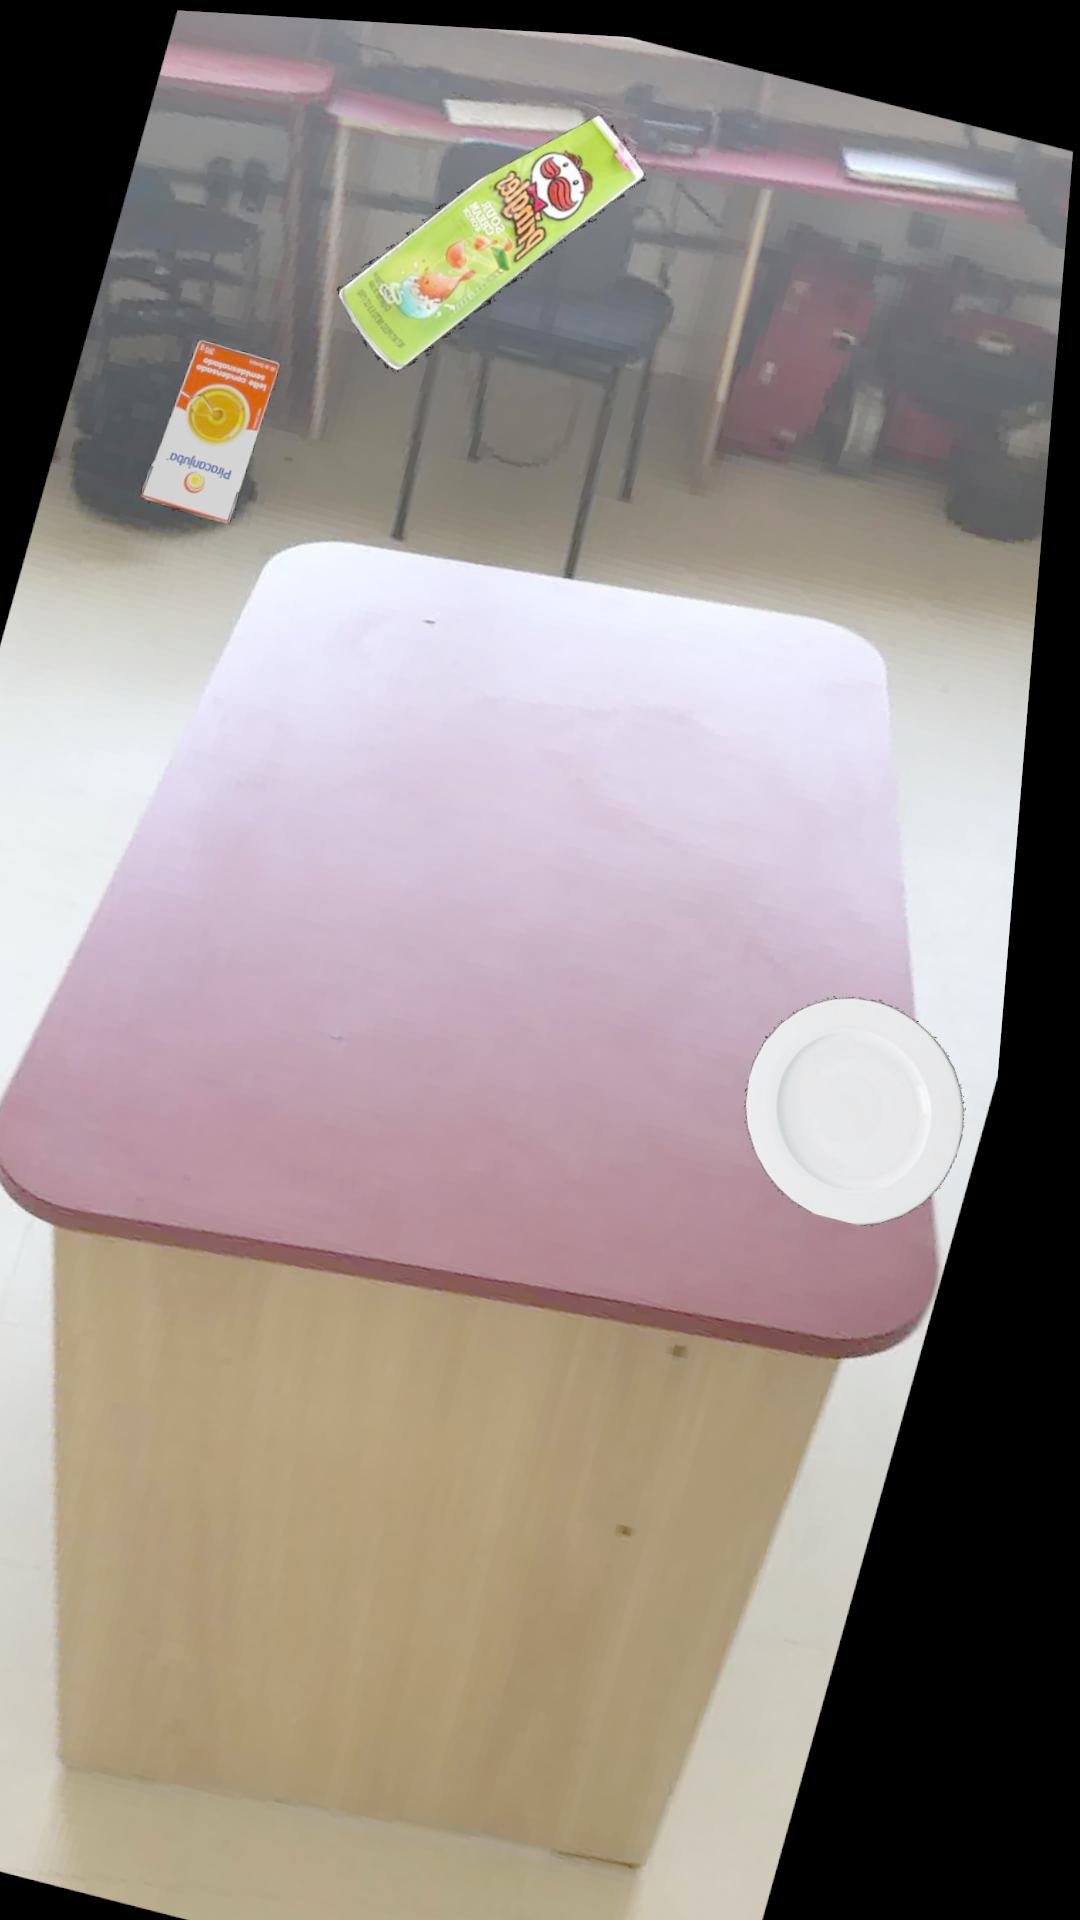plate: (764, 982, 984, 1212)
pringles: (343, 105, 649, 364)
